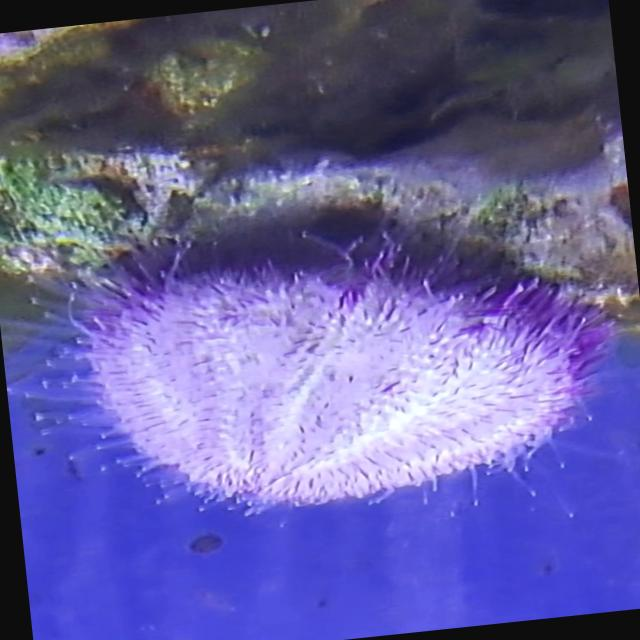Deniz Kestanesi: (14, 189, 638, 552)
